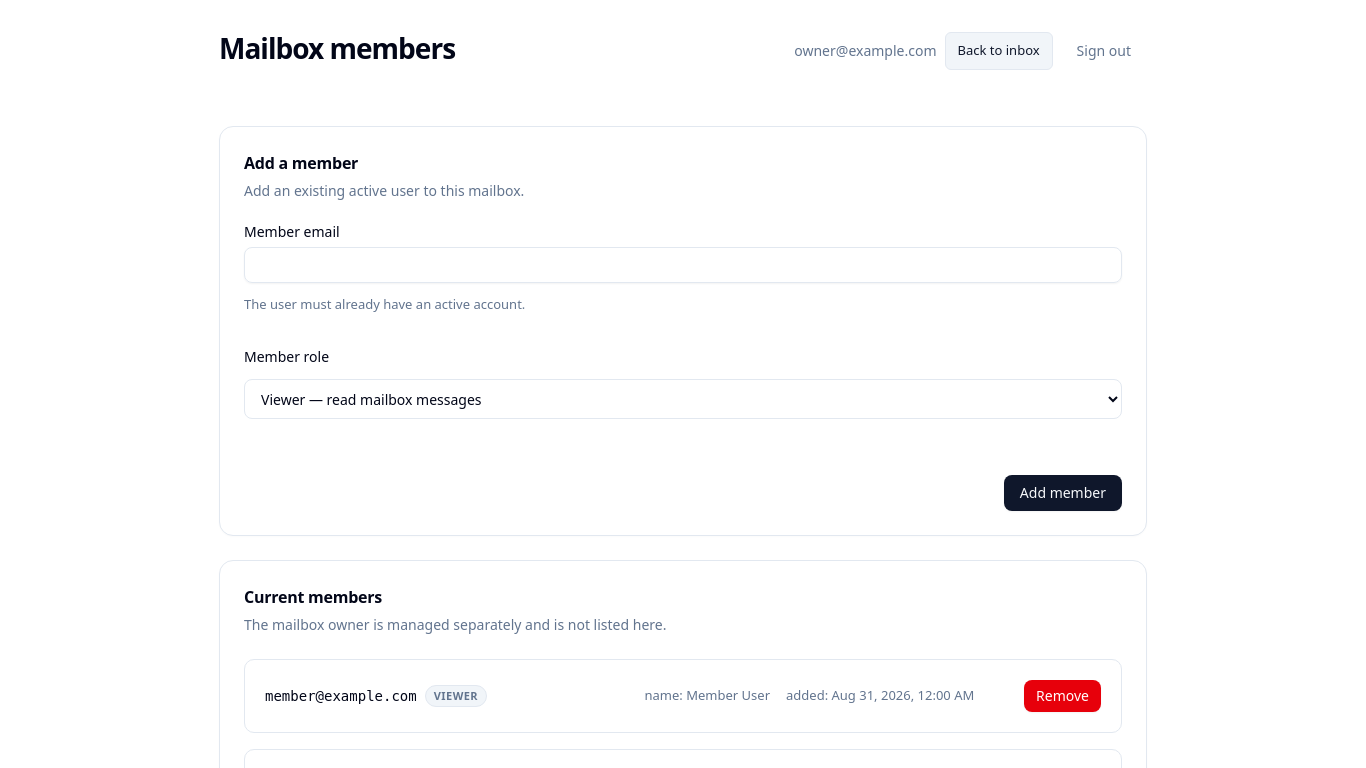
Scenario: MailboxMembersPage — CAP-065 › R-API-003 R-SECRET-003 requires confirmation and updates only the removed member on success
The width and height of the screenshot is (1366, 768).
Click the button "Remove". click: (1063, 696)
box: [1024, 680, 1101, 712]
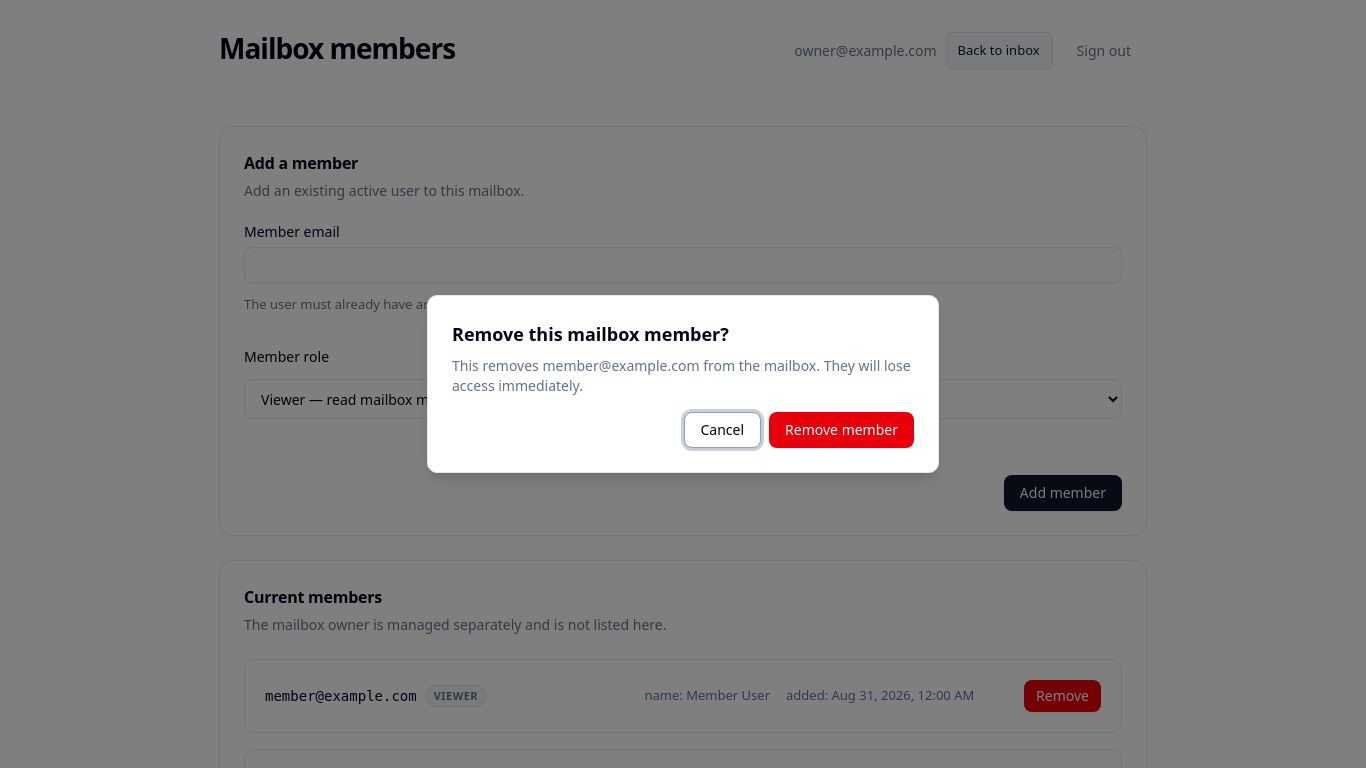
Check: the dialog with test id "alert-dialog" is shown, box [427, 295, 939, 473]
Click the button with test id "alert-dialog-cancel". click: (722, 430)
box: [684, 412, 761, 448]
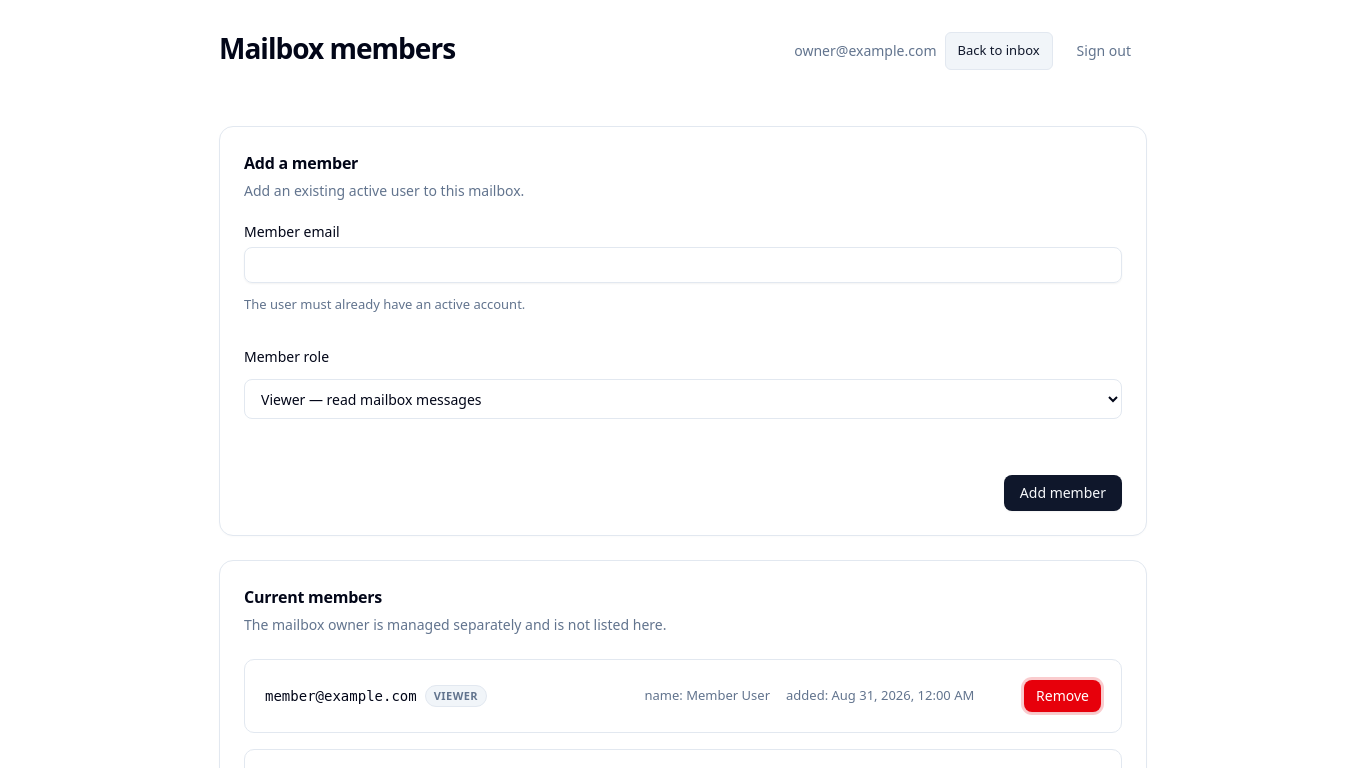
Click the button "Remove". click: (1063, 696)
box: [1024, 680, 1101, 712]
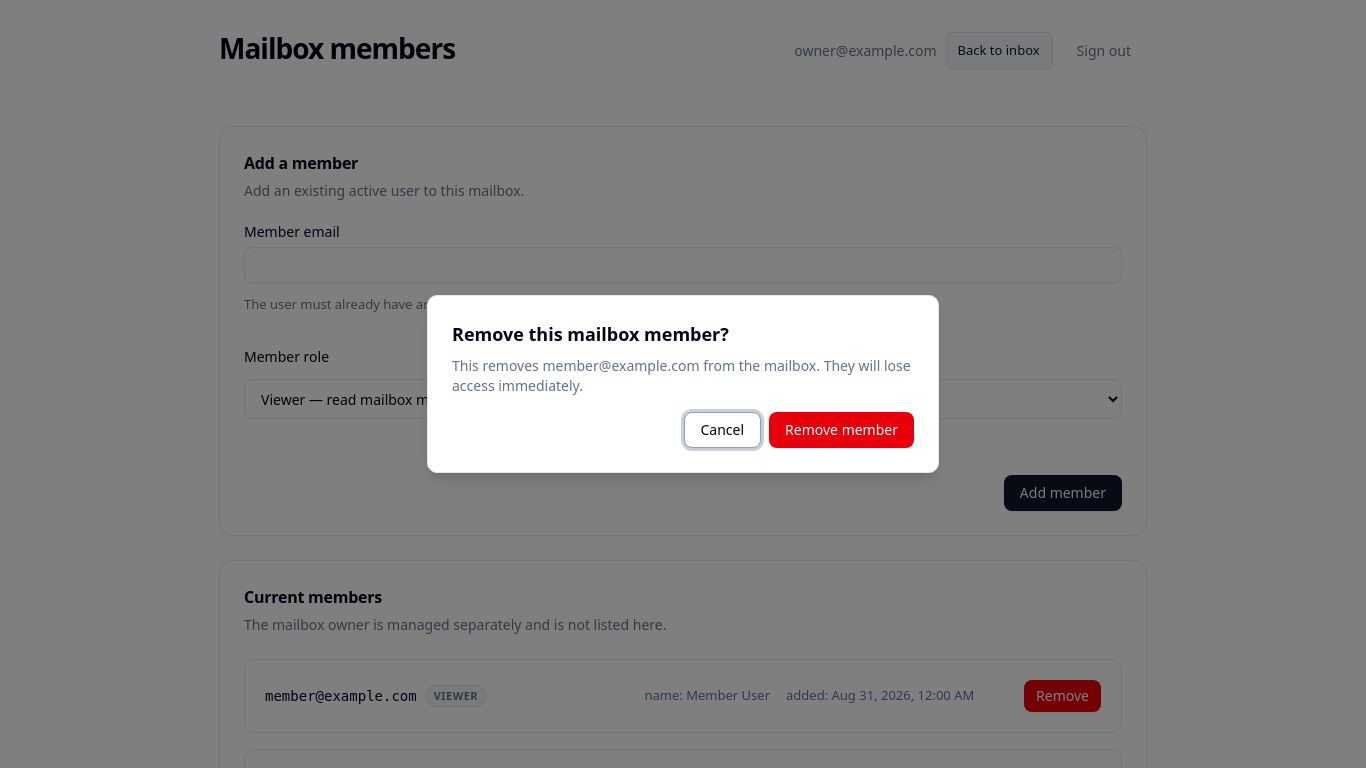
Click the button with test id "alert-dialog-confirm". click: (842, 430)
box: [769, 412, 914, 448]
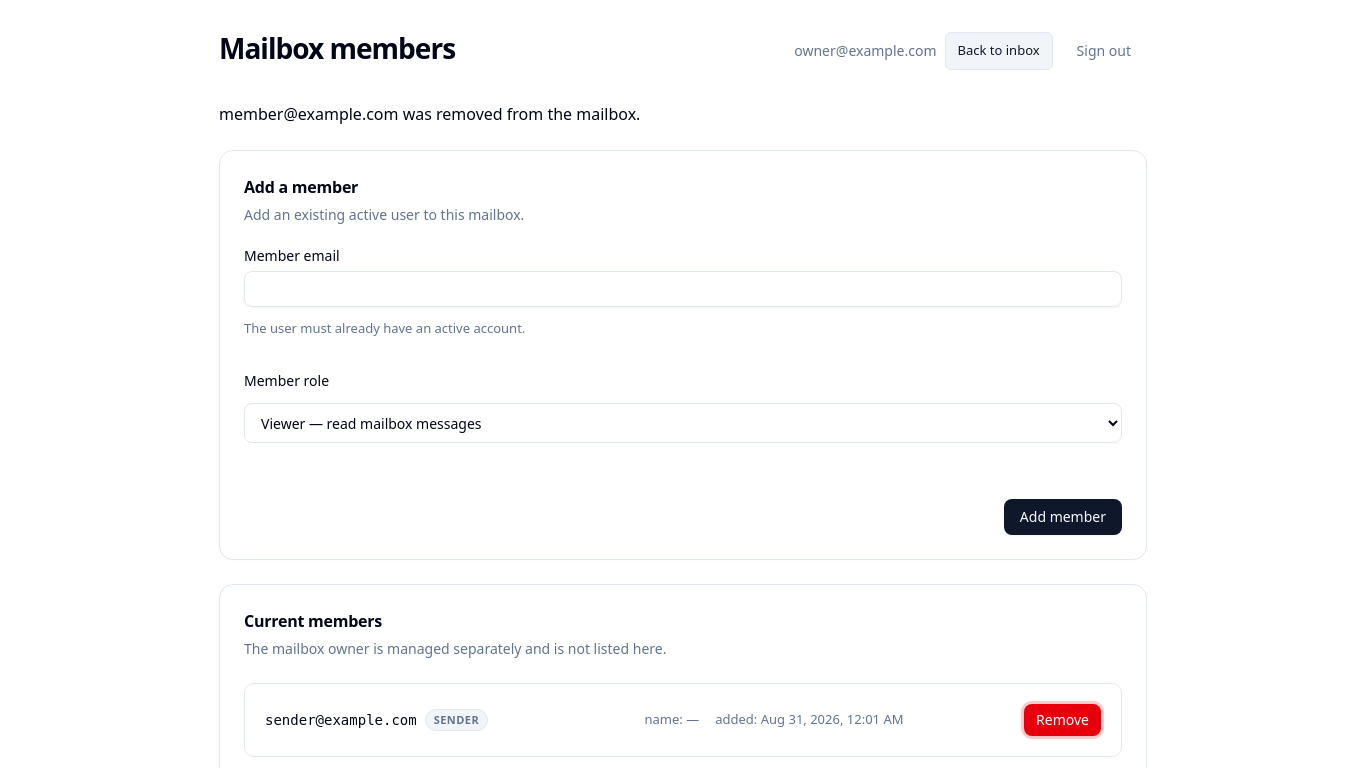
Check: the message with test id "mailbox-members-success" reads "member@example.com was removed from the mailbox.", box [219, 102, 640, 124]
